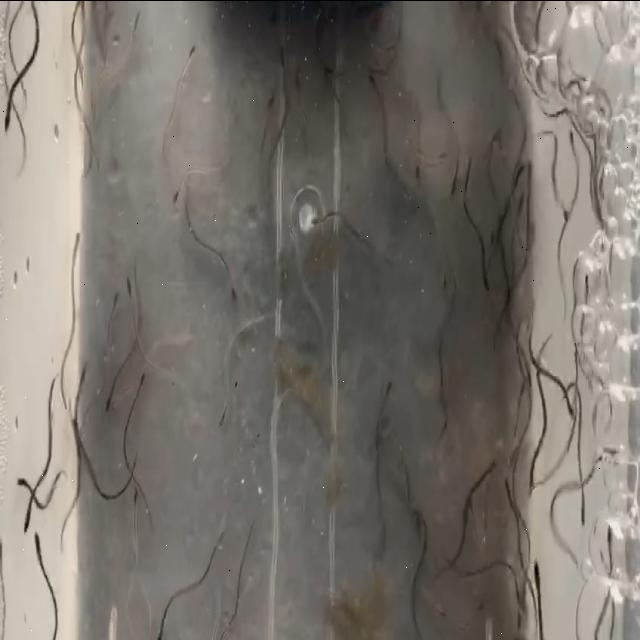active_glass_eel: (513, 149, 542, 207), (380, 356, 404, 422), (290, 56, 316, 116), (100, 278, 124, 336), (215, 369, 236, 433), (409, 512, 438, 556), (404, 144, 426, 200), (178, 31, 202, 82), (475, 442, 500, 490), (126, 476, 148, 530), (579, 248, 600, 304), (1, 65, 17, 134), (508, 370, 534, 412), (65, 216, 87, 262), (536, 394, 558, 440), (310, 202, 330, 250), (554, 190, 578, 230), (558, 118, 582, 158), (259, 74, 277, 126), (129, 2, 145, 60), (169, 170, 190, 214), (520, 441, 538, 491), (33, 524, 51, 572), (504, 60, 528, 96), (102, 377, 122, 420), (434, 261, 459, 294), (124, 252, 140, 303), (132, 366, 156, 400), (268, 41, 292, 75), (76, 351, 98, 386), (158, 608, 182, 640), (14, 453, 26, 516), (22, 499, 40, 539), (222, 270, 240, 310), (562, 390, 582, 426), (434, 134, 452, 172), (472, 270, 494, 300), (3, 0, 24, 31), (362, 68, 379, 106), (527, 559, 547, 591), (600, 508, 614, 552), (68, 402, 82, 445), (544, 322, 555, 374), (442, 168, 461, 198), (576, 499, 590, 539), (502, 468, 518, 501), (322, 56, 336, 84), (77, 0, 87, 31)
